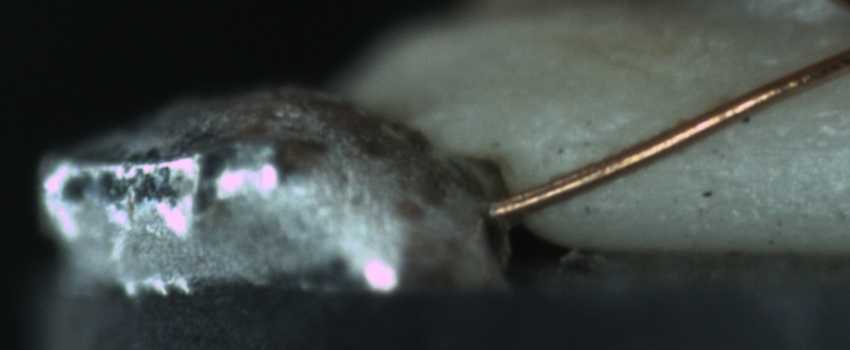DL: (543, 111, 844, 175)
